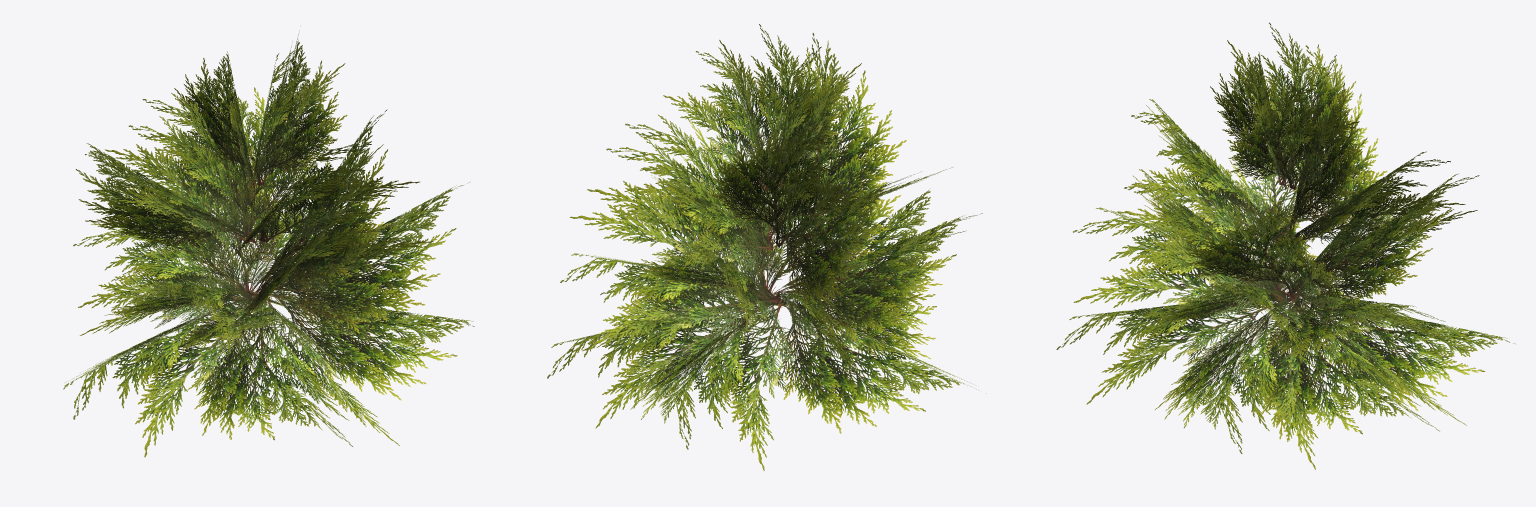
File: Grass1.fbx
3 renders of one model, left to right at view 1: azimuth 30°, elevation 25°; view 2: azimuth 150°, elevation 25°; view 3: azimuth 270°, elevation 25°, orthographic.
Parts seen in each view (by area): view 1: pPlane23; view 2: pPlane23; view 3: pPlane23.
Boxes of the visible parts, <box> form: pPlane23: <box>63,30,474,457</box>; pPlane23: <box>547,24,982,470</box>; pPlane23: <box>1056,22,1514,469</box>.
Size of the model in its own units: 0.0261 by 0.0203 by 0.0252.
